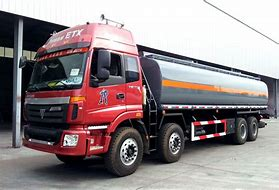oil truck: (16, 20, 270, 174)
